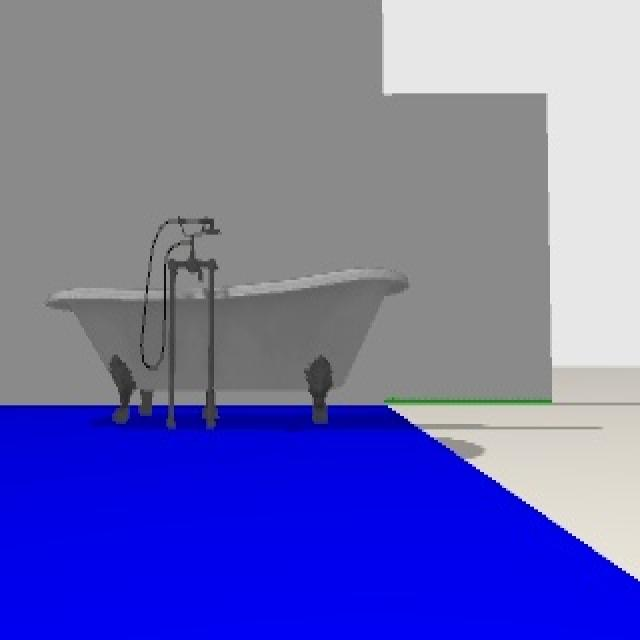bathtub: (44, 214, 412, 431)
